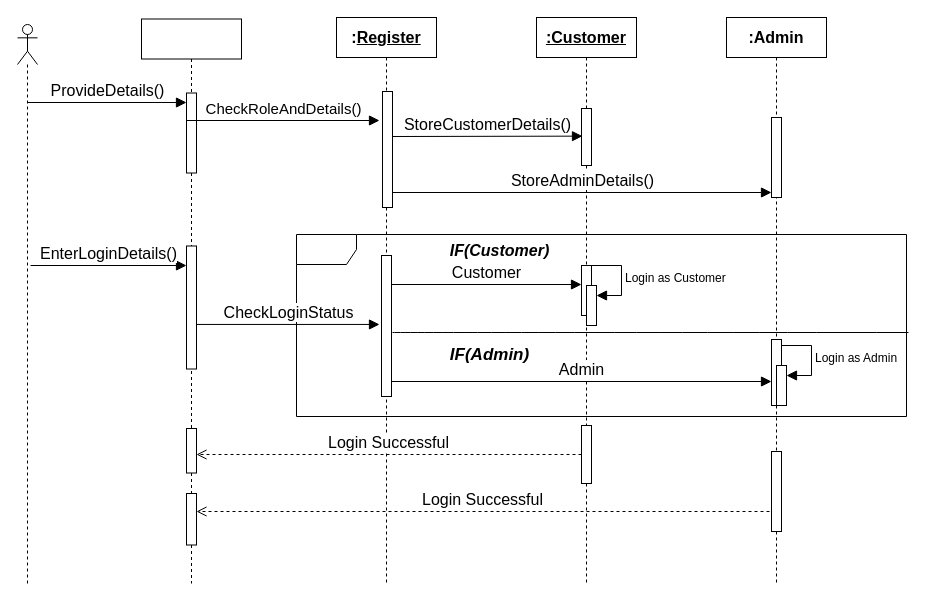
Some shapes in this 927 by 601 pixel diagram are drawn without their labels. The shapes that lost their labels are listed below. From the top down, each one's box as (x1, y1, x2, y2) in pixels, then its label:
(140, 18, 242, 584): : RegisterUI
(296, 234, 906, 416): Alt
